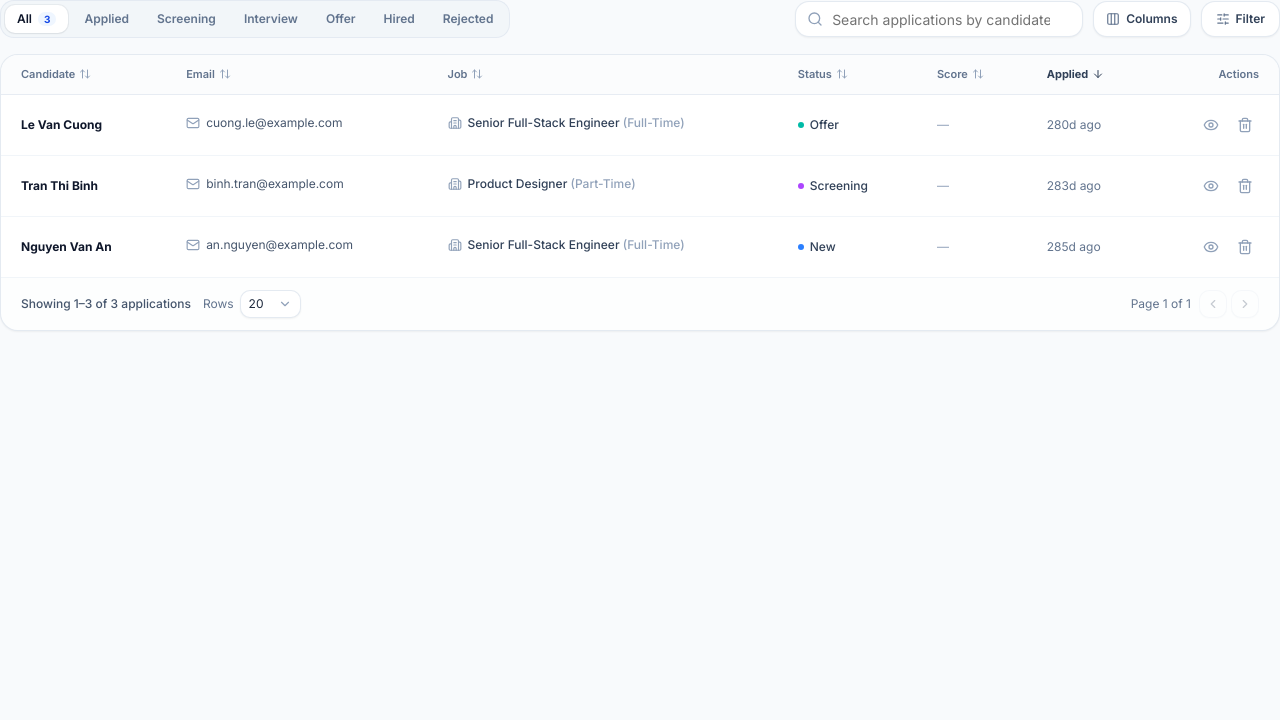
Scenario: ApplicationsDataTable Component › 5. Candidate Quick Drawer › opens drawer when clicking an application row
The width and height of the screenshot is (1280, 720).
Click the button "Nguyen Van An" at (66, 247), box x1=21 y1=239 x2=112 y2=255
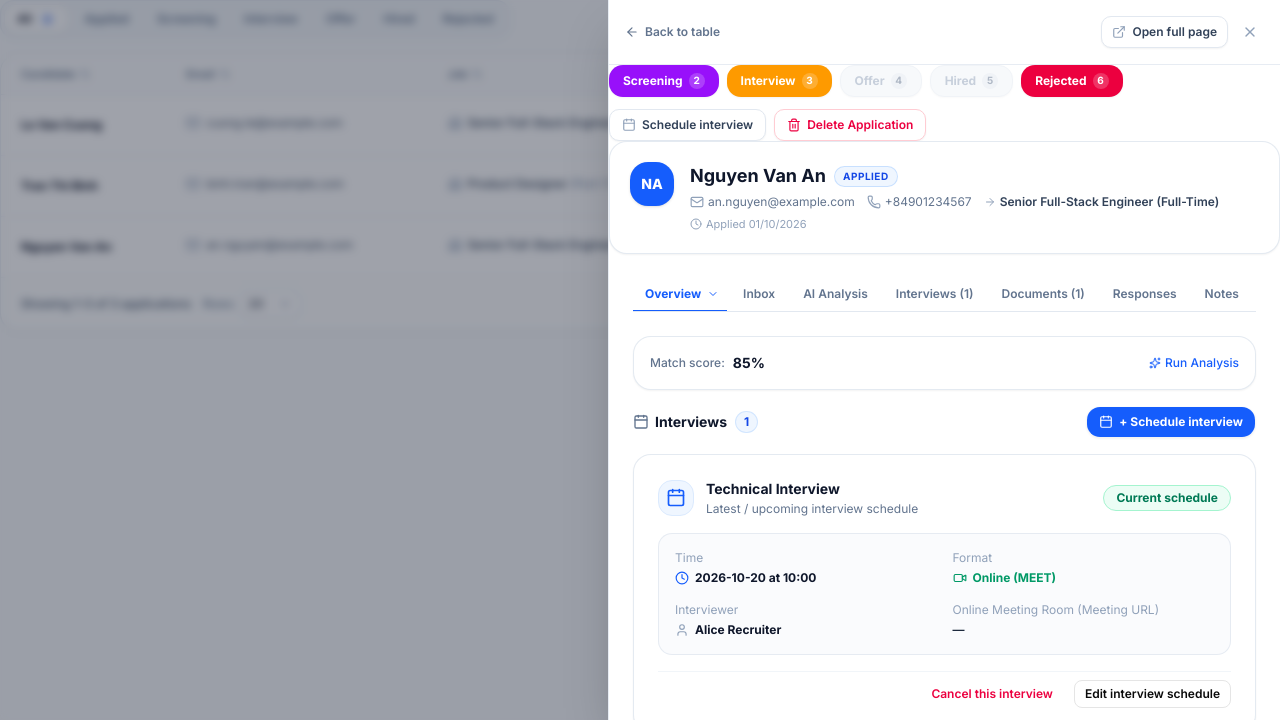
Expected: the heading "Nguyen Van An" is shown, x1=690 y1=162 x2=826 y2=190
Expected: the text "+84901234567" is shown, x1=867 y1=194 x2=972 y2=210
Expected: the text "Back to table" is shown, x1=645 y1=24 x2=720 y2=40
